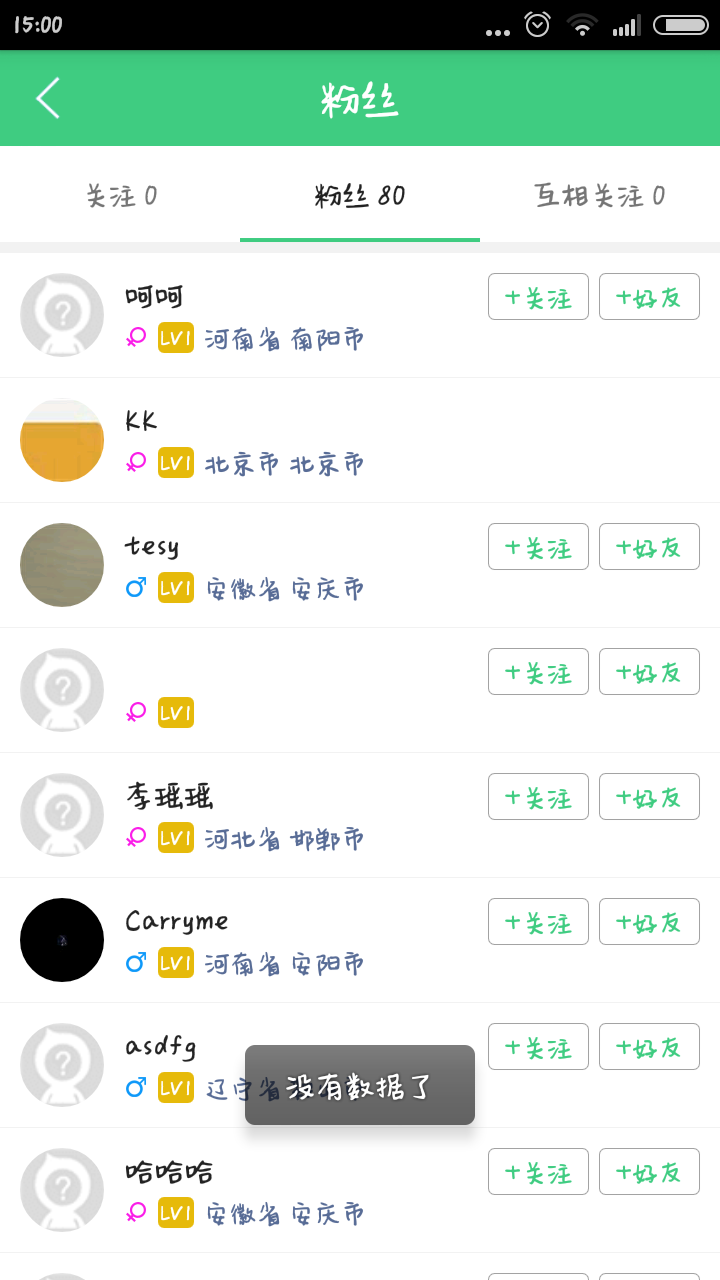imgbutton: (13, 65, 89, 130)
